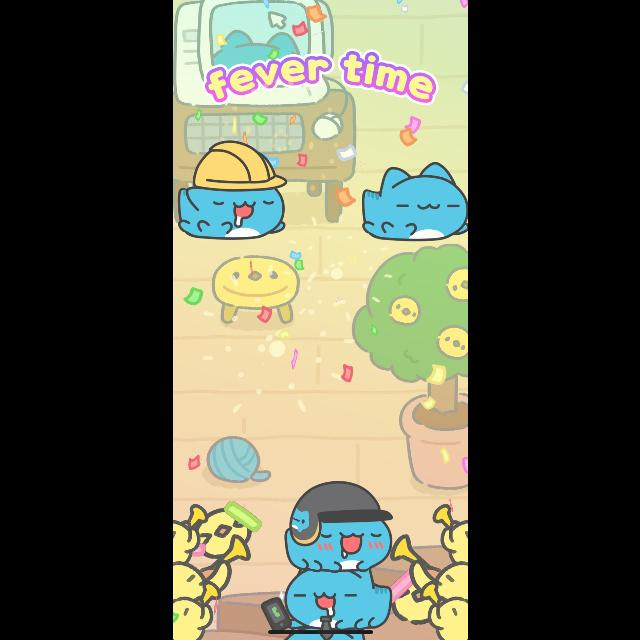capoo: (175, 137, 288, 240), (279, 480, 396, 572), (252, 570, 393, 640), (358, 160, 467, 244)
